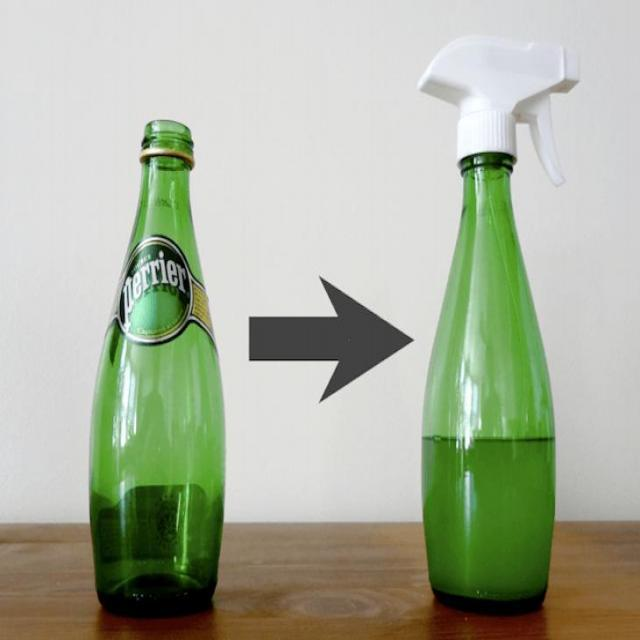glass: (82, 105, 224, 622)
